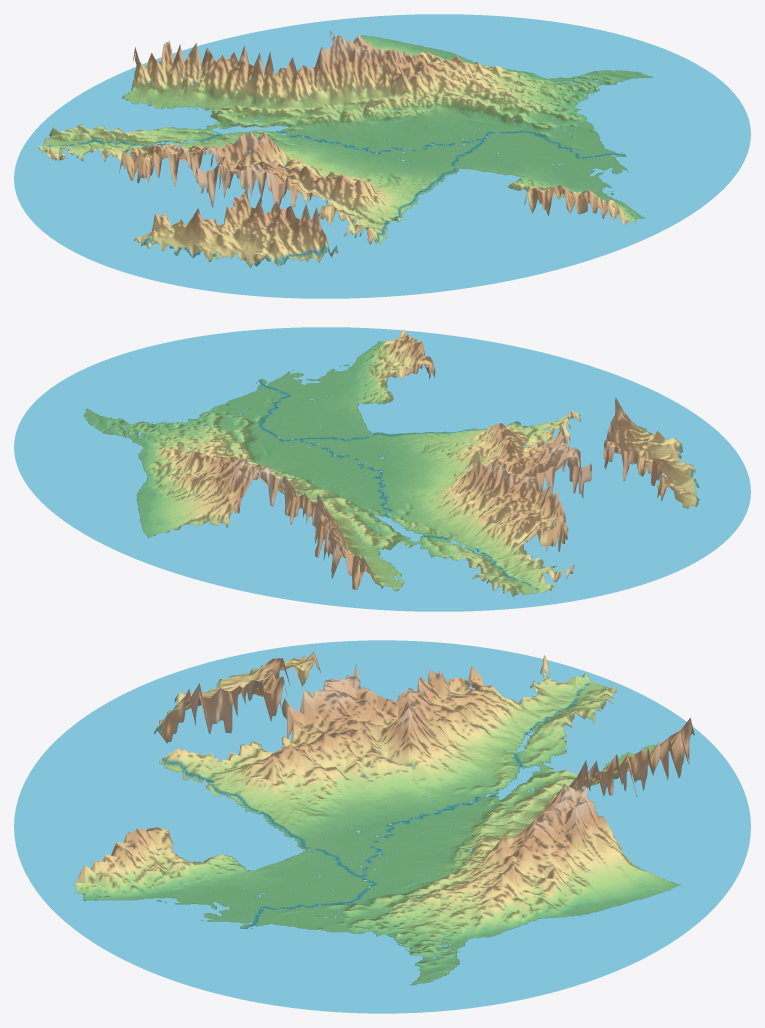
The model's file is AZE-terrain.glb.
3 renders of one model, top to bottom at view 1: azimuth 30°, elevation 25°; view 2: azimuth 150°, elevation 25°; view 3: azimuth 270°, elevation 25°, orthographic. The views are drawn at different scales.
Parts seen in each view (by area): view 1: Relevo com hidrografia; view 2: Relevo com hidrografia; view 3: Relevo com hidrografia.
Boxes of the visible parts, <box> form: Relevo com hidrografia: <box>14,14,750,298</box>; Relevo com hidrografia: <box>14,327,750,611</box>; Relevo com hidrografia: <box>14,640,750,1013</box>.
Size of the model in its own units: 1.8 by 0.1401 by 1.5.
2 materials, 1 textured.
